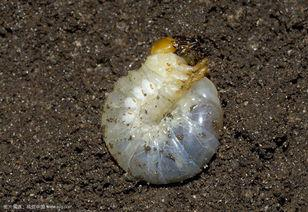grub: (98, 36, 221, 182)
